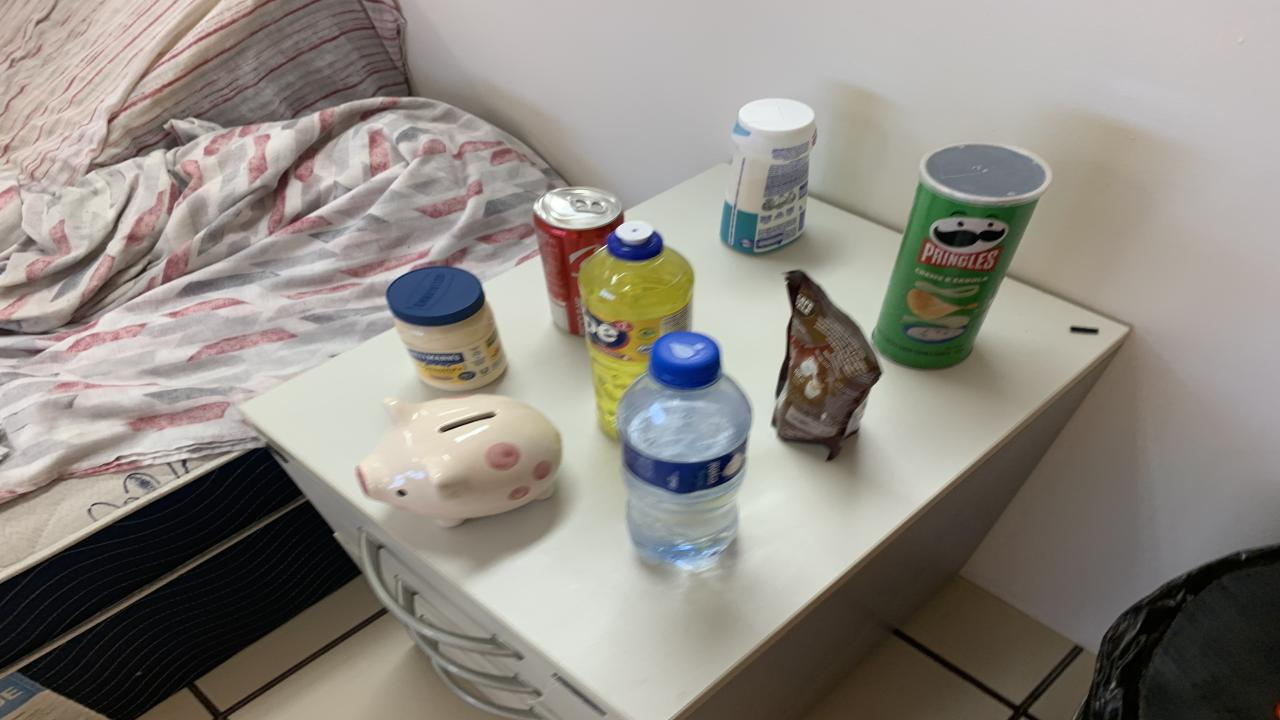Cleaner-Cleanup_Items: (720, 98, 815, 253)
Coffee-Pantry_Items: (772, 270, 882, 459)
Coke-Drinks: (532, 188, 622, 336)
Detergent-Cleanup_Items: (578, 219, 695, 437)
Mayonnaise-Pantry_Items: (385, 266, 508, 392)
Pig_Safe-Miscellaneous: (355, 394, 562, 527)
Pringles-Snacks: (872, 144, 1048, 369)
Water_Bottle-Drinks: (618, 332, 752, 570)
